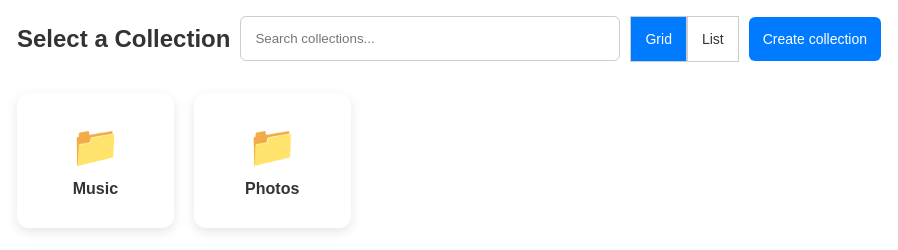
Scenario: FilesList › filters collections by search term
Expected: the text "Music" is shown, [73, 180, 118, 198]
Expected: the text "Photos" is shown, [245, 180, 299, 198]
Type "music" into the field with placeholder "Search collections...". click: (430, 39)
box: [240, 16, 620, 61]
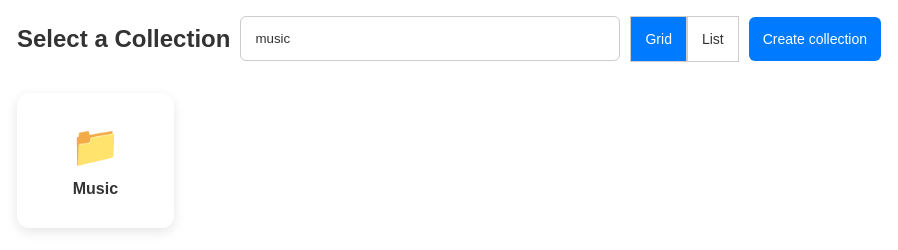
Expected: the text "Music" is shown, [73, 180, 118, 198]
Expected: the text "Photos" is gone
